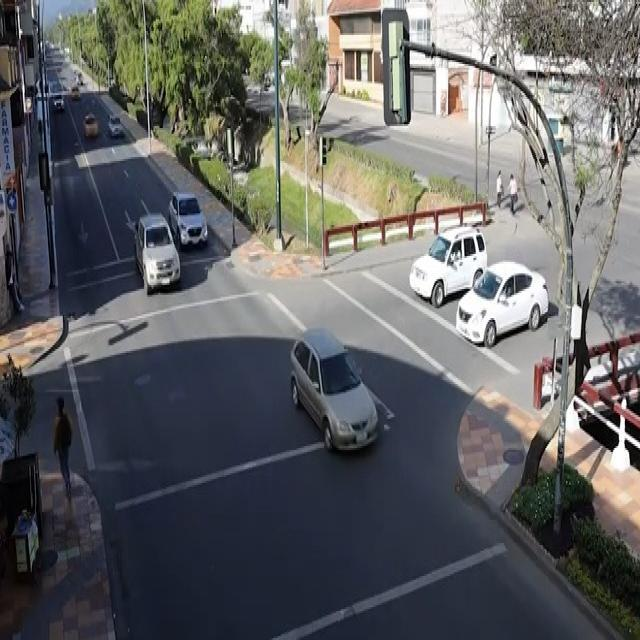CMT: (132, 214, 180, 294)
SED: (280, 334, 394, 456)
